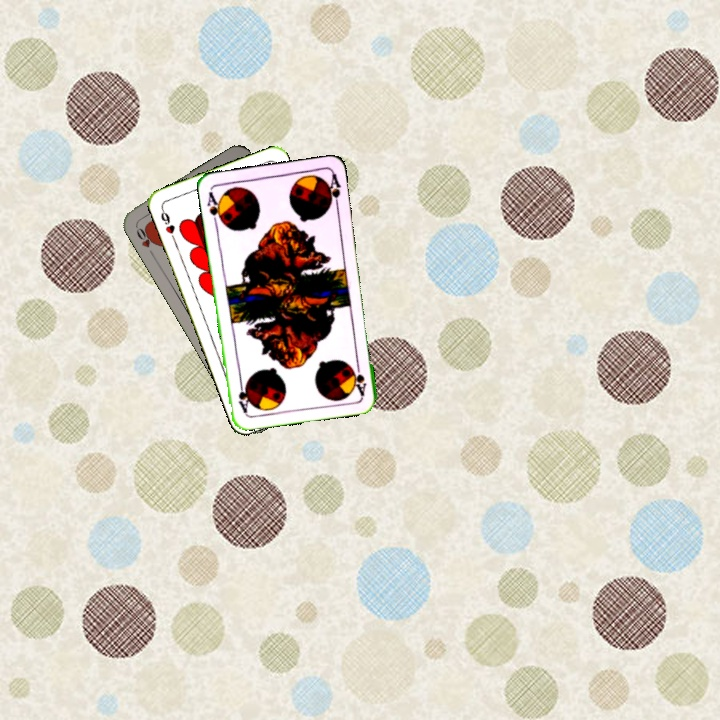H9: (157, 204, 178, 243)
HO: (131, 221, 159, 258)
SA: (203, 187, 226, 228), (348, 357, 369, 398)
